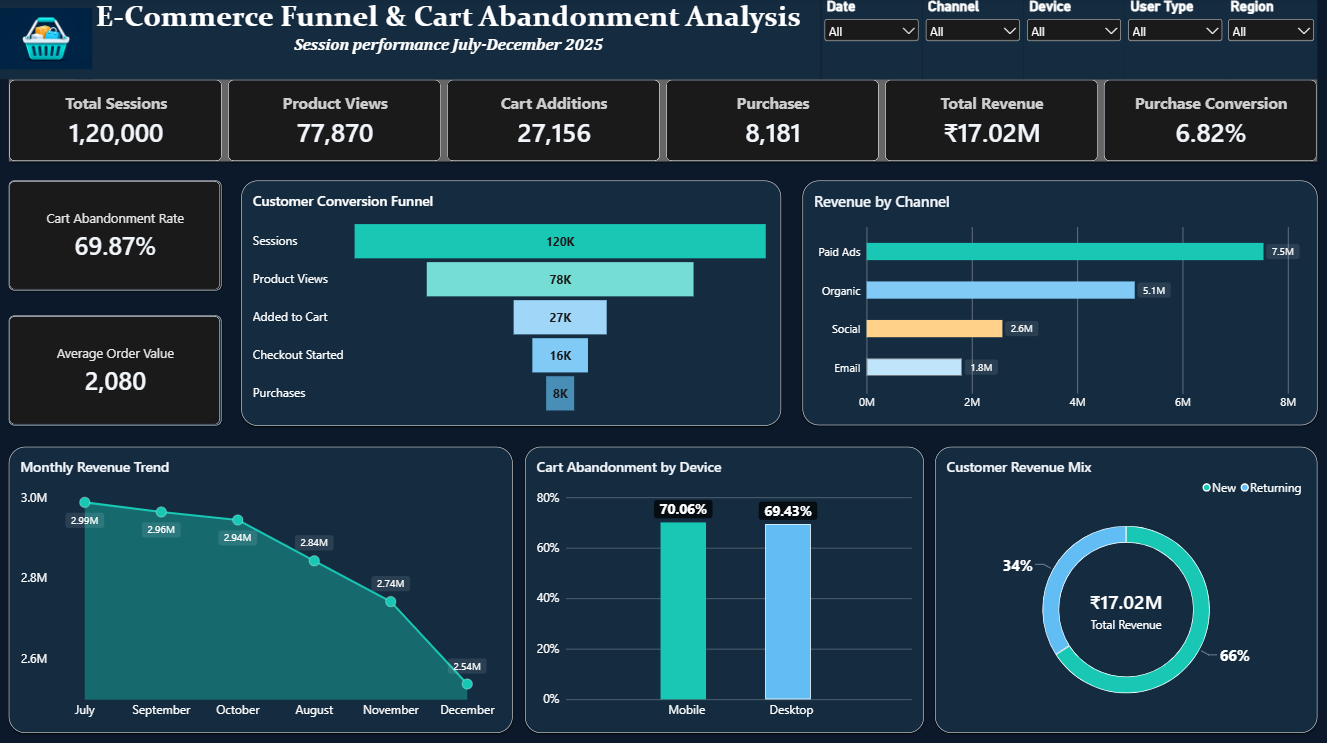

This screenshot's page, from the dashboard's own definition file:
{"tool":"powerbi","page":{"name":"Page 1","canvas":[1920,1080],"ordinal":0},"visuals":[{"type":"cardVisual","fields":{"Data":["cart_abandonment_cleaned.Total Sessions","cart_abandonment_cleaned.Product Viewed","cart_abandonment_cleaned.Cart Additions","cart_abandonment_cleaned.Purchases","cart_abandonment_cleaned.Total Revenue","cart_abandonment_cleaned.Purchase Conversion"]},"box":[12.7,117.6,1894.7,119.4],"z":0},{"type":"shape","box":[0,0,1077.7,103],"z":1000},{"type":"textbox","box":[111.1,0,1077.7,117.5],"z":2000},{"type":"slicer","fields":{"Values":["cart_abandonment_cleaned.date"]},"box":[1189.7,0,146.1,117.3],"z":3000},{"type":"slicer","fields":{"Values":["cart_abandonment_cleaned.channel"]},"box":[1335.9,0,146,117.3],"z":4000},{"type":"slicer","fields":{"Values":["cart_abandonment_cleaned.device"]},"box":[1482,0,146,117.3],"z":5000},{"type":"slicer","fields":{"Values":["cart_abandonment_cleaned.user_type"]},"box":[1628.1,0,146,117.3],"z":6000},{"type":"slicer","fields":{"Values":["cart_abandonment_cleaned.region"]},"box":[1773.5,0,133.9,117.6],"z":7000},{"type":"image","box":[0,0,133.9,117.6],"z":8000},{"type":"barChart","title":"Revenue by Channel","fields":{"Category":["cart_abandonment_cleaned.channel"],"Y":["Sum(cart_abandonment_cleaned.revenue)"]},"box":[1161.8,264.2,745.6,354.7],"z":9000},{"type":"lineChart","title":"Monthly Revenue Trend","fields":{"Category":["cart_abandonment_cleaned.month"],"Y":["Sum(cart_abandonment_cleaned.revenue)"]},"box":[12.7,649.7,729.3,414.4],"z":10000},{"type":"lineClusteredColumnComboChart","title":"Cart Abandonment by Device","fields":{"Category":["cart_abandonment_cleaned.device"],"Y":["cart_abandonment_cleaned.Cart Abandonment Rate"]},"box":[760.1,649.7,577.3,414.4],"z":11000},{"type":"donutChart","title":"Customer Revenue Mix","fields":{"Category":["cart_abandonment_cleaned.user_type"],"Y":["cart_abandonment_cleaned.Total Revenue"]},"box":[1353.6,649.7,553.8,414.4],"z":12000},{"type":"cardVisual","fields":{"Data":["cart_abandonment_cleaned.Cart Abandonment Rate"]},"box":[12.7,264.2,307.6,159.3],"z":13000},{"type":"cardVisual","fields":{"Data":["Funnel Stages.Average Order Value"]},"box":[12.7,459.7,307.6,159.3],"z":14000},{"type":"funnel","title":"Customer Conversion Funnel","fields":{"Category":["Funnel Stages.Stage"],"Y":["Funnel Stages.Funnel Stage Count"]},"box":[348.6,264.2,781.5,355.2],"z":15000}]}

Visuals, with their boxes in screenshot pixels (x1, y1, x2, y2), scaled from the page's 1920x1080 canvas onto the 1327x743 screenshot:
cardVisual - cart_abandonment_cleaned.Total Sessions x cart_abandonment_cleaned.Product Viewed: BBox(9, 81, 1318, 163)
shape: BBox(0, 0, 745, 71)
textbox: BBox(77, 0, 822, 81)
slicer - cart_abandonment_cleaned.date: BBox(822, 0, 923, 81)
slicer - cart_abandonment_cleaned.channel: BBox(923, 0, 1024, 81)
slicer - cart_abandonment_cleaned.device: BBox(1024, 0, 1125, 81)
slicer - cart_abandonment_cleaned.user_type: BBox(1125, 0, 1226, 81)
slicer - cart_abandonment_cleaned.region: BBox(1226, 0, 1318, 81)
image: BBox(0, 0, 93, 81)
"Revenue by Channel" barChart: BBox(803, 182, 1318, 426)
"Monthly Revenue Trend" lineChart: BBox(9, 447, 513, 732)
"Cart Abandonment by Device" lineClusteredColumnComboChart: BBox(525, 447, 924, 732)
"Customer Revenue Mix" donutChart: BBox(936, 447, 1318, 732)
cardVisual - cart_abandonment_cleaned.Cart Abandonment Rate: BBox(9, 182, 221, 291)
cardVisual - Funnel Stages.Average Order Value: BBox(9, 316, 221, 426)
"Customer Conversion Funnel" funnel: BBox(241, 182, 781, 426)
